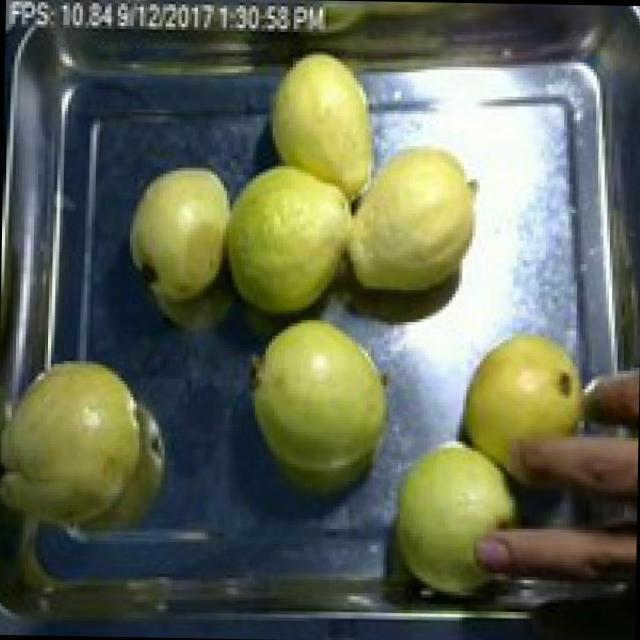Fruit: (0, 346, 178, 557), (448, 312, 615, 524), (240, 302, 403, 503), (370, 426, 536, 622), (336, 128, 499, 310), (221, 152, 358, 327), (255, 38, 389, 212), (122, 157, 234, 316)
